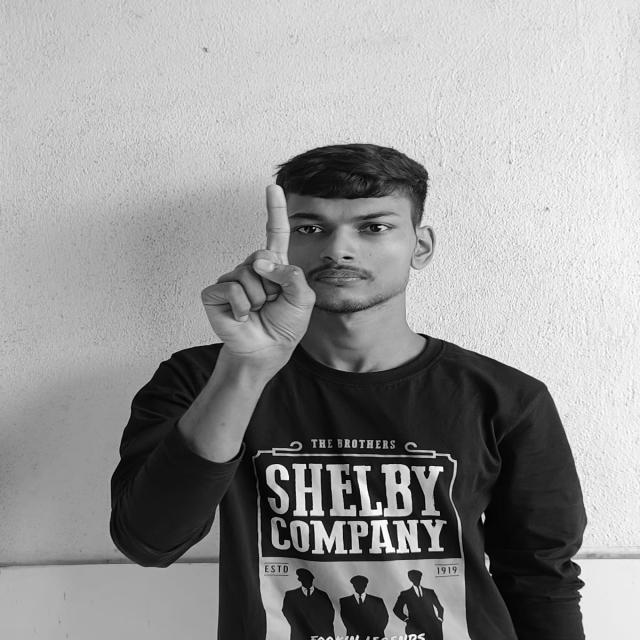Question: (196, 184, 316, 353)
